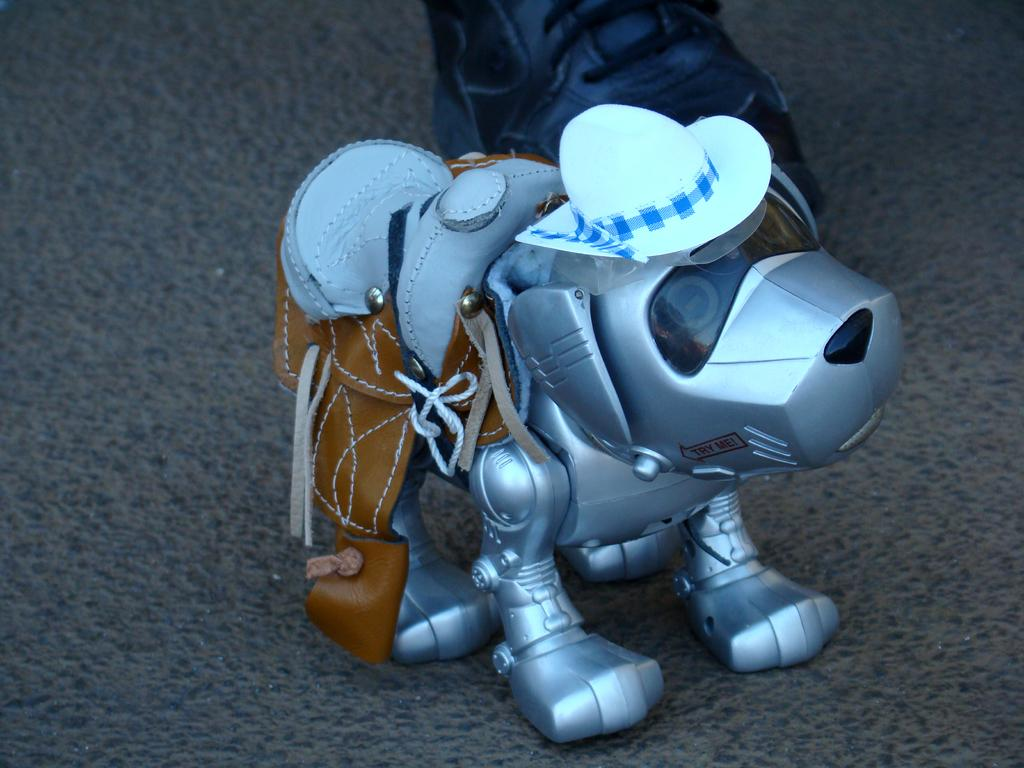Hat: (512, 99, 774, 259)
